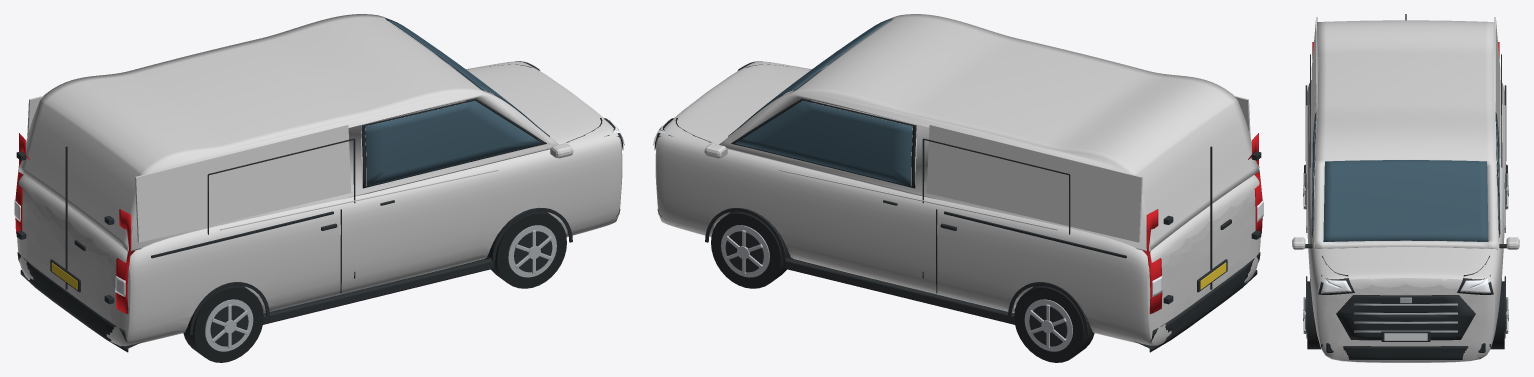
The model's file is ford-transit-custom.glb.
3 renders of one model, left to right at view 1: azimuth 30°, elevation 25°; view 2: azimuth 150°, elevation 25°; view 3: azimuth 270°, elevation 25°, orthographic. The views are drawn at different scales.
Visible parts, largest first — view 1: FleetBody, FleetTrim, FleetGlass, FleetRubber, FleetLights; view 2: FleetBody, FleetTrim, FleetGlass, FleetRubber, FleetLights; view 3: FleetBody, FleetGlass, FleetTrim, FleetLights, FleetRubber.
Boxes of the visible parts, x1=… form: FleetBody: x1=17, y1=14, x2=622, y2=346; FleetTrim: x1=16, y1=61, x2=623, y2=352; FleetGlass: x1=365, y1=18, x2=549, y2=186; FleetRubber: x1=183, y1=209, x2=566, y2=362; FleetLights: x1=14, y1=61, x2=624, y2=313; FleetBody: x1=655, y1=14, x2=1260, y2=345; FleetTrim: x1=654, y1=61, x2=1261, y2=352; FleetGlass: x1=728, y1=18, x2=912, y2=186; FleetRubber: x1=711, y1=209, x2=1094, y2=362; FleetLights: x1=653, y1=61, x2=1263, y2=313; FleetBody: x1=1292, y1=17, x2=1519, y2=362; FleetGlass: x1=1311, y1=114, x2=1500, y2=241; FleetTrim: x1=1294, y1=14, x2=1517, y2=359; FleetLights: x1=1312, y1=42, x2=1499, y2=340; FleetRubber: x1=1307, y1=281, x2=1504, y2=349.
Size of the model in its own units: 4.97 by 1.96 by 2.26.
